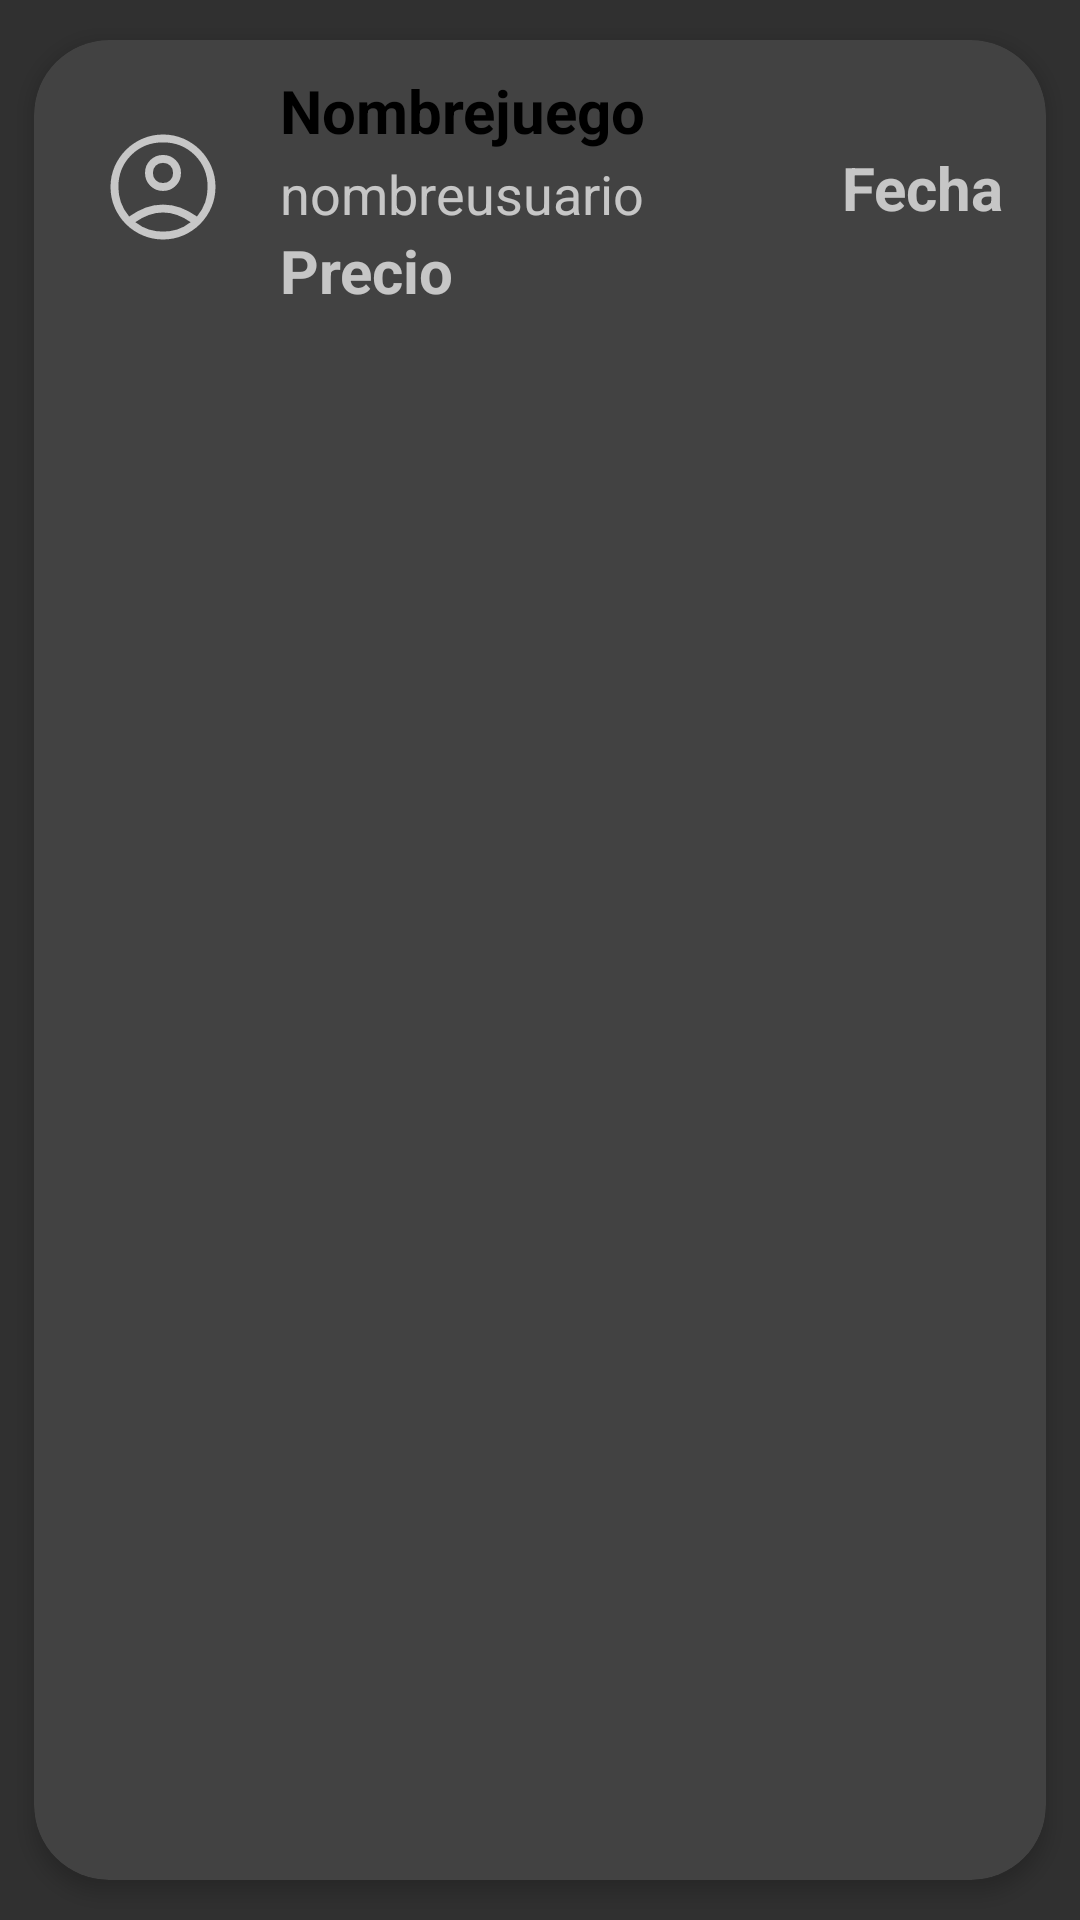

Icons on this 1080*1920 Android screen, each with its box as (x1,y1,x2,y2):
iconu: (110,134,216,240)
